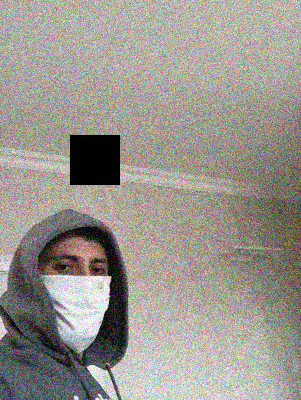with_mask: (38, 248, 111, 354)
